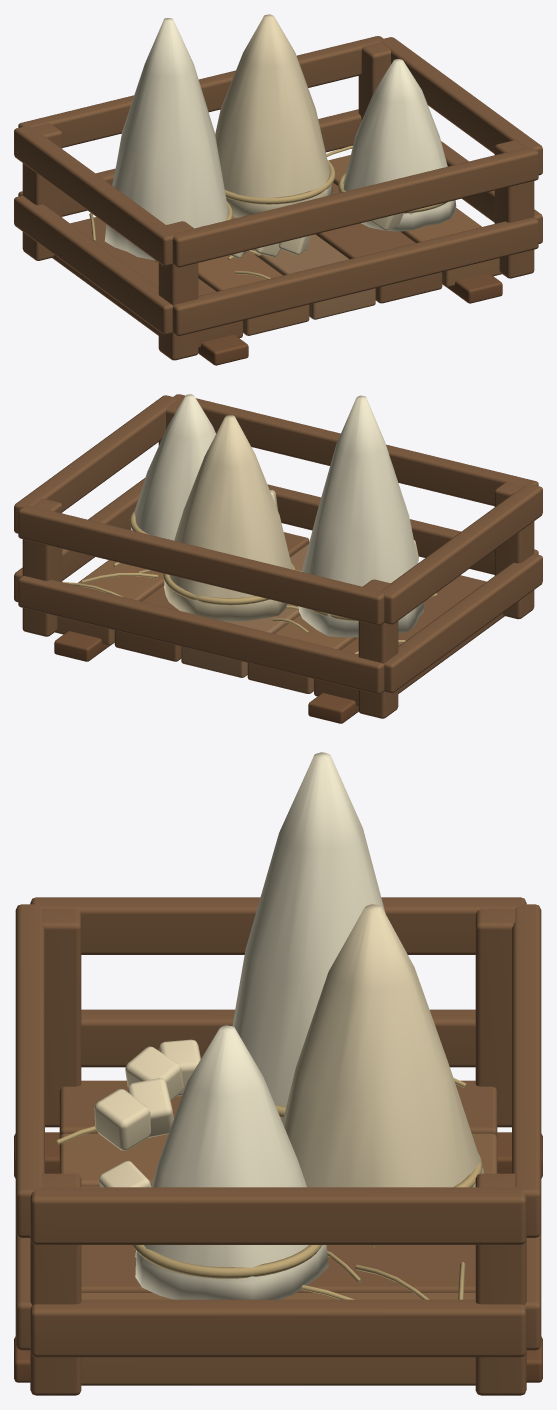
The model's file is sugar.glb.
3 renders of one model, top to bottom at view 1: azimuth 30°, elevation 25°; view 2: azimuth 150°, elevation 25°; view 3: azimuth 270°, elevation 25°, orthographic. The views are drawn at different scales.
Parts seen in each view (by area): view 1: Cargo_sugar; view 2: Cargo_sugar; view 3: Cargo_sugar.
Boxes of the visible parts, x1,y1,x2,y2 form: Cargo_sugar: [14, 14, 542, 365]; Cargo_sugar: [14, 394, 542, 723]; Cargo_sugar: [14, 752, 542, 1395].
Bounding box in the file's own units: 0.985 × 0.6595 × 0.725.
